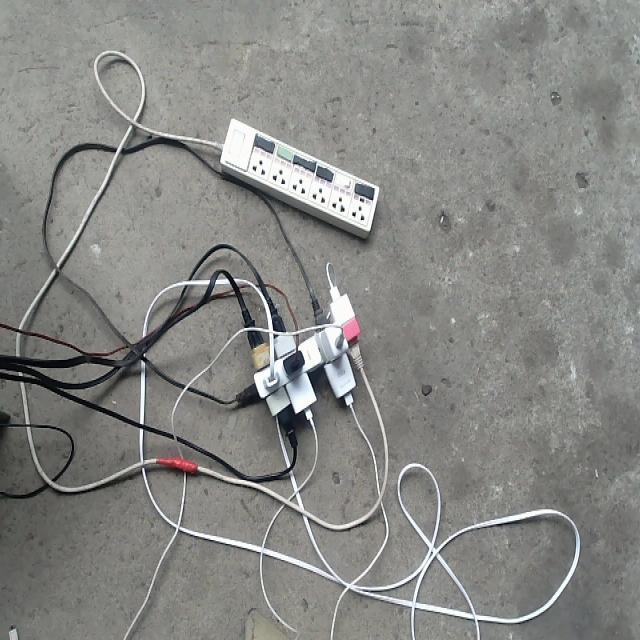-: (237, 295, 364, 417)
